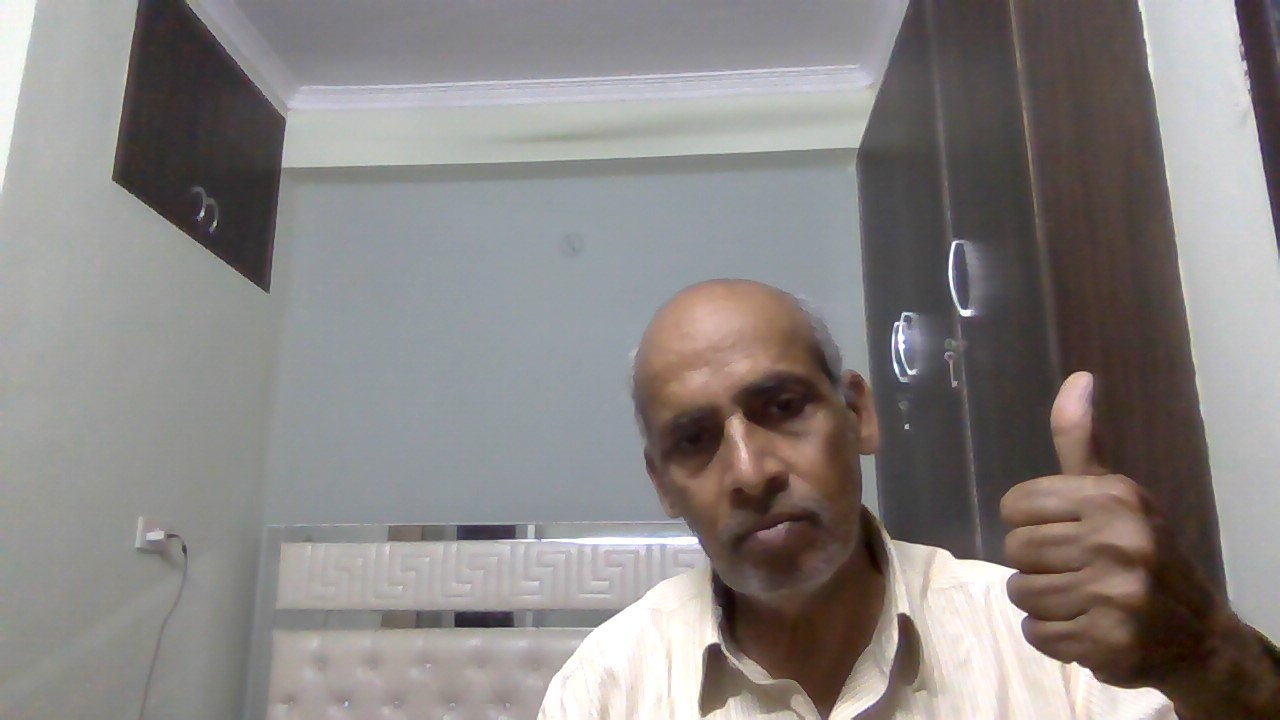Save: (988, 362, 1226, 704)
